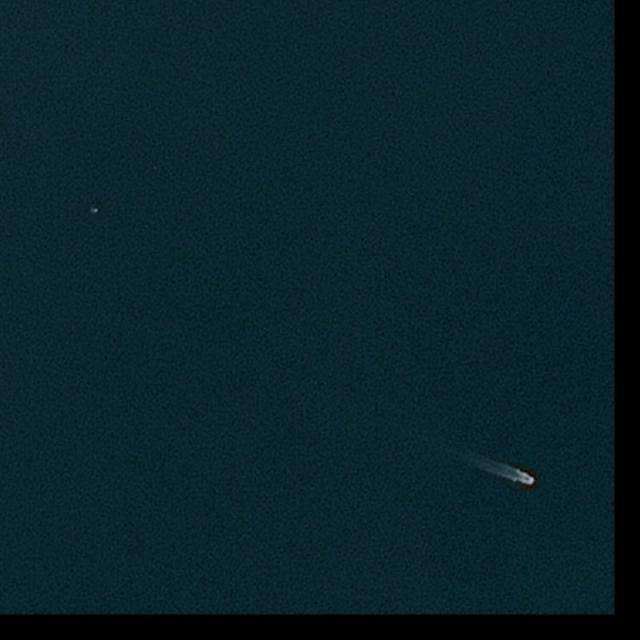ship: (519, 474, 534, 485)
